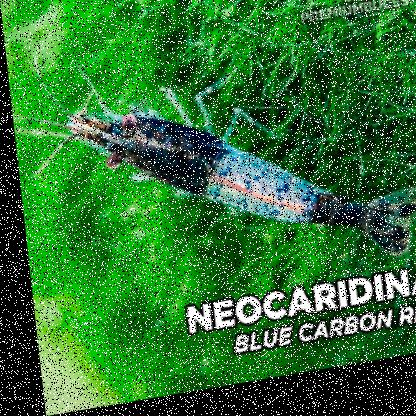shrimp: (49, 67, 415, 315)
